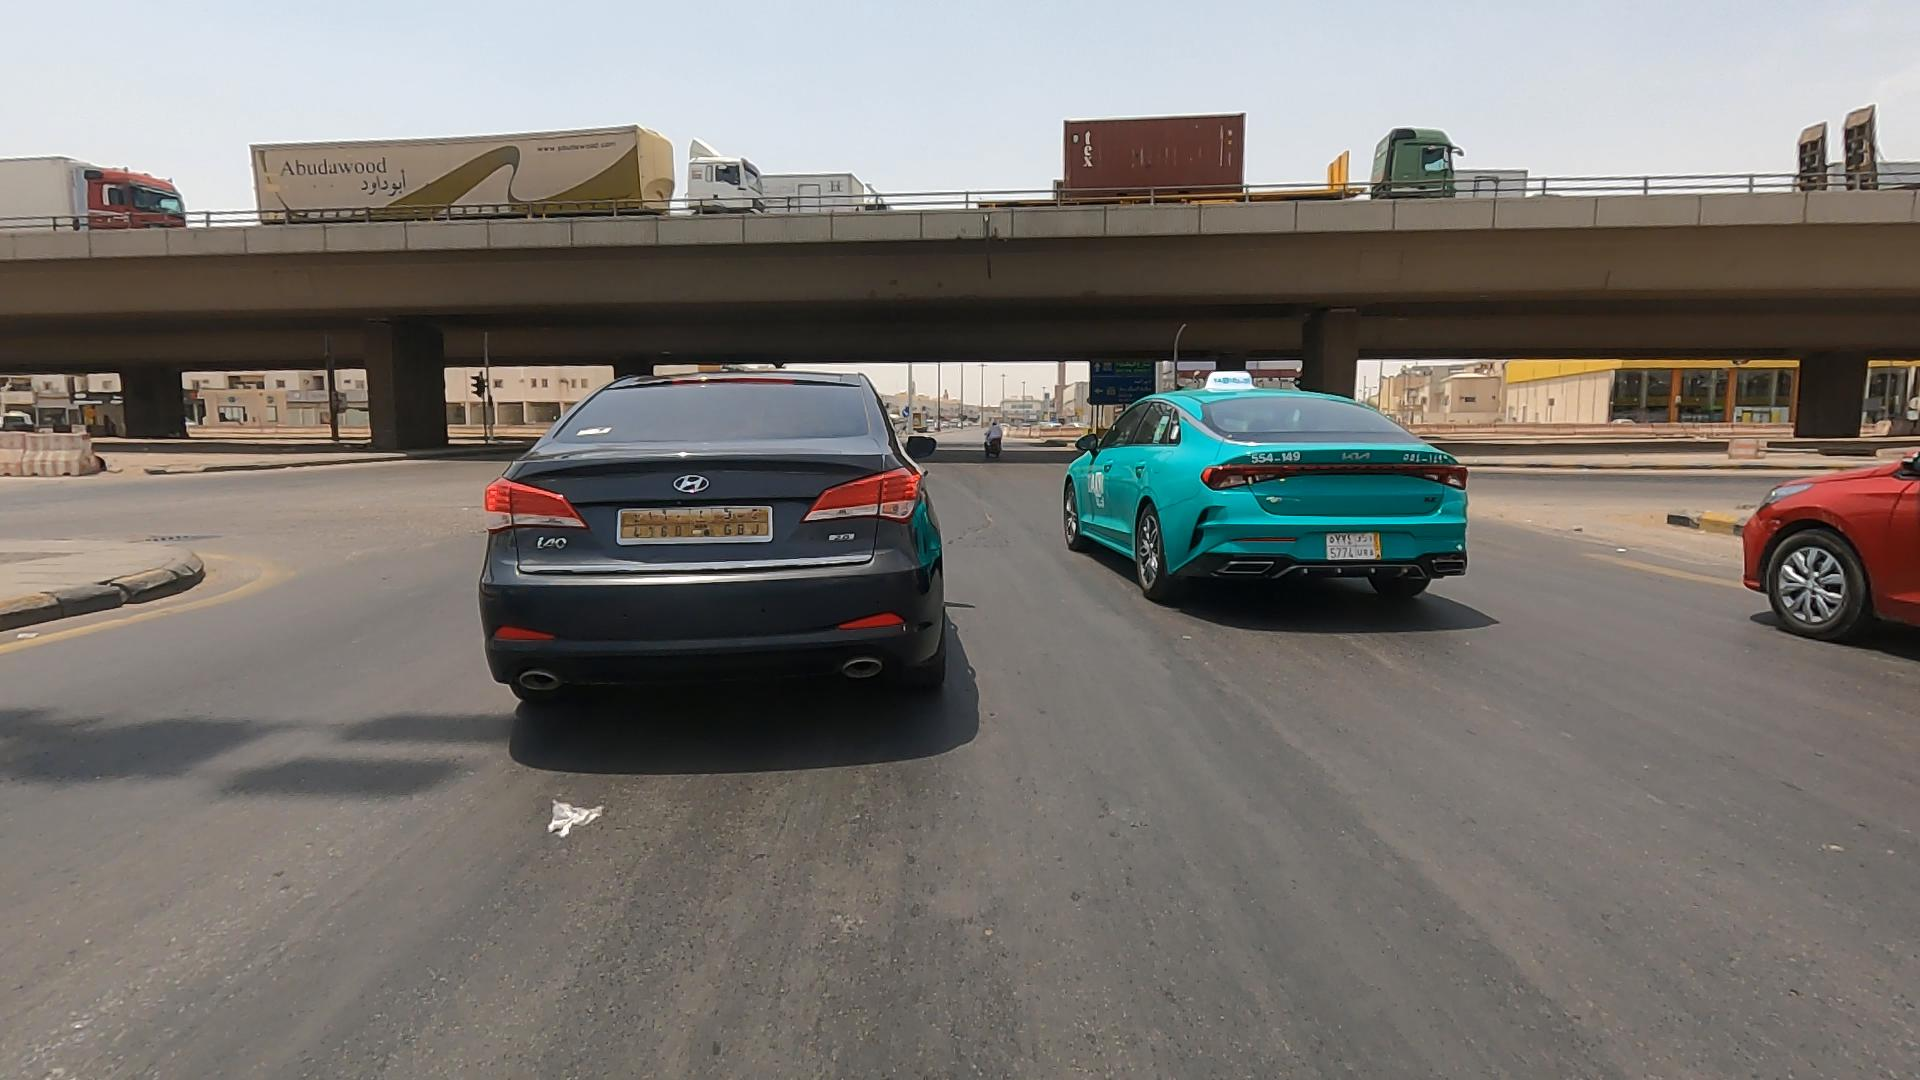GARBAGE: (435, 750, 699, 883)
